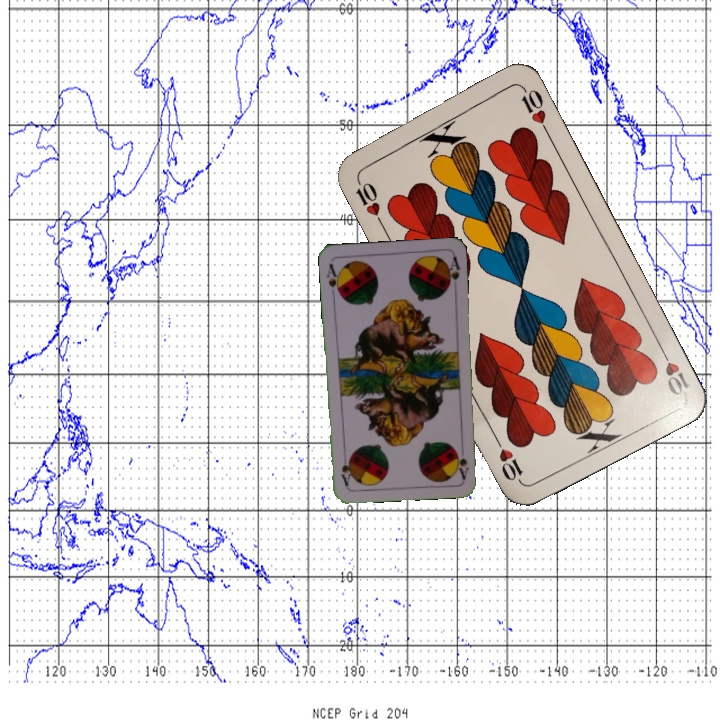H10: (655, 341, 692, 398), (351, 173, 386, 228)
SA: (322, 260, 343, 299), (453, 441, 471, 481)
